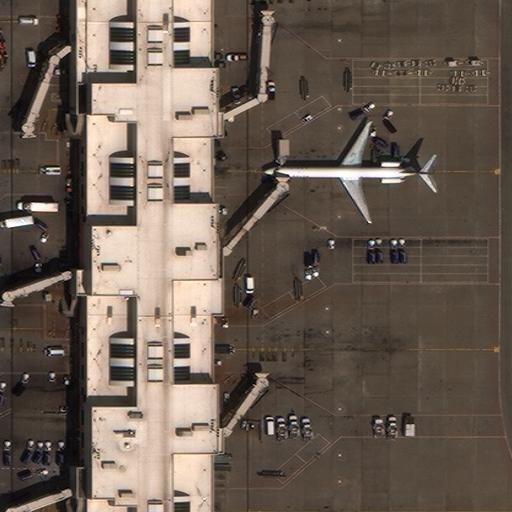Medium Civil Transport: (261, 121, 435, 222)
